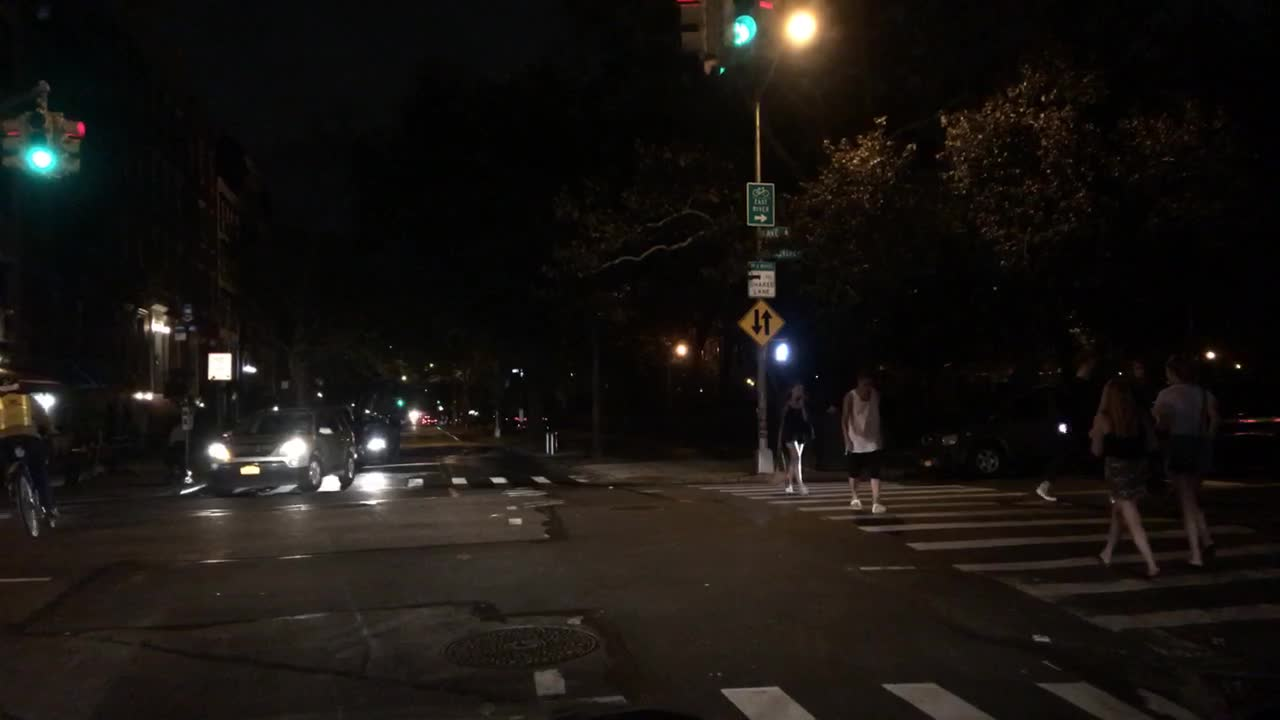bike: (9, 419, 62, 537)
car: (208, 400, 359, 495), (910, 400, 1071, 484), (1217, 405, 1279, 484), (360, 413, 398, 465), (415, 415, 437, 428)
person: (1087, 345, 1164, 580), (1156, 356, 1222, 575), (1034, 348, 1107, 506), (838, 366, 889, 516), (778, 369, 815, 497), (165, 418, 186, 479)
rider: (1, 367, 68, 531)
traffic light: (55, 114, 85, 182), (680, 1, 710, 65), (26, 104, 53, 174), (725, 0, 755, 63), (1, 112, 24, 168), (757, 1, 774, 65), (766, 339, 796, 365)
traffic sign: (738, 299, 782, 347), (745, 183, 776, 226), (744, 261, 776, 298), (168, 322, 204, 344), (175, 302, 195, 319)
